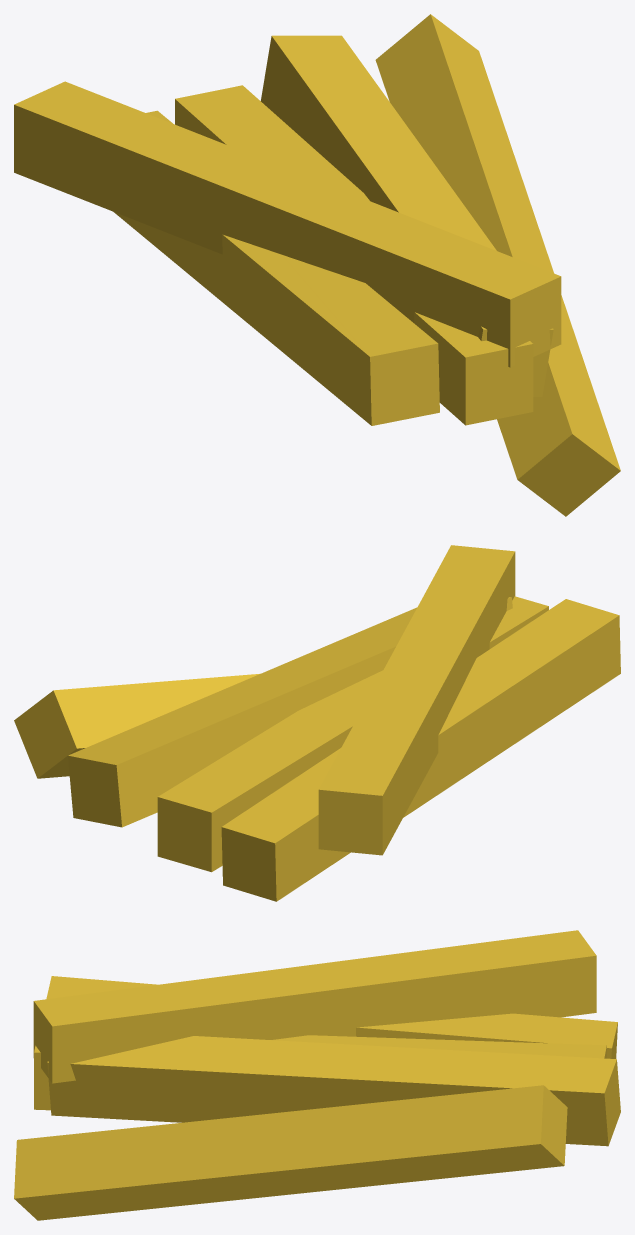
3 views of the same model, one above another, from view 1: azimuth 30°, elevation 25°; view 2: azimuth 150°, elevation 25°; view 3: azimuth 270°, elevation 25° (orthographic). The views are drawn at different scales.
Visible parts, largest first — view 1: 立方体.001, 立方体.003, 立方体.004, 立方体.002, 立方体; view 2: 立方体.004, 立方体.001, 立方体.002, 立方体, 立方体.003; view 3: 立方体.003, 立方体.001, 立方体.002, 立方体.004, 立方体.
Part boxes in pixels (x1,y1,x2,y2): 立方体.001: (14, 81, 561, 367); 立方体.003: (375, 14, 620, 516); 立方体.004: (114, 110, 439, 425); 立方体.002: (261, 35, 553, 396); 立方体: (175, 85, 533, 425); 立方体.004: (221, 599, 620, 901); 立方体.001: (318, 545, 515, 855); 立方体.002: (68, 597, 512, 827); 立方体: (157, 596, 548, 872); 立方体.003: (14, 673, 260, 778); 立方体.003: (14, 1085, 567, 1220); 立方体.001: (33, 930, 596, 1083); 立方体.002: (47, 1036, 620, 1146); 立方体.004: (46, 976, 617, 1058); 立方体: (34, 1035, 606, 1110).
Size of the model in its own units: 170 by 88.99 by 241.
